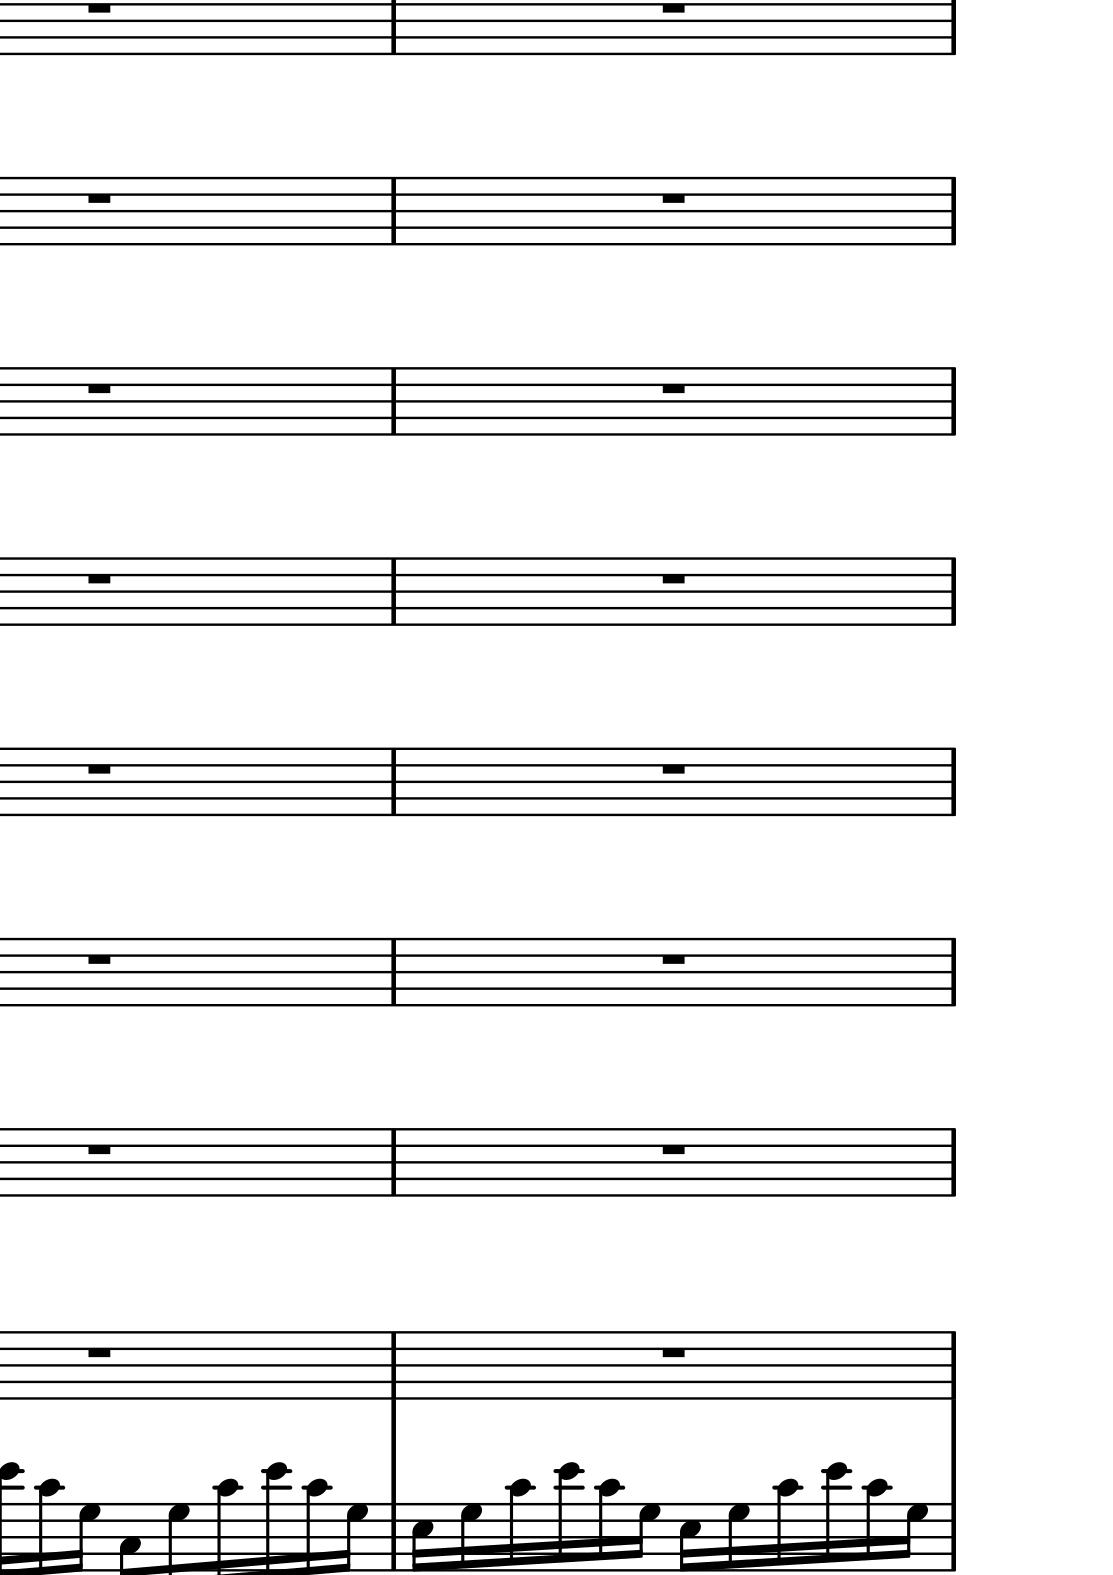16_10: (33, 1477, 64, 1575), (300, 1477, 331, 1575), (862, 1476, 893, 1573), (507, 1477, 537, 1573), (775, 1474, 801, 1575), (595, 1477, 622, 1573)
16_12: (552, 1459, 583, 1573), (821, 1457, 850, 1573)
16_5: (676, 1500, 701, 1573), (411, 1502, 435, 1574)
16_7: (70, 1502, 102, 1575), (335, 1504, 369, 1574), (900, 1502, 931, 1573), (630, 1503, 661, 1571), (457, 1503, 483, 1573), (728, 1500, 750, 1571)
Rests1: (656, 760, 695, 784), (81, 949, 114, 973), (659, 568, 691, 592), (656, 1344, 691, 1365), (659, 378, 693, 400), (656, 948, 690, 968), (84, 1137, 113, 1160), (84, 570, 114, 591), (659, 188, 688, 210), (84, 1344, 114, 1364), (81, 381, 114, 399), (84, 188, 114, 207), (656, 1142, 691, 1157), (86, 759, 114, 777)
Single_barline: (381, 1503, 405, 1573), (381, 1332, 405, 1400), (940, 558, 964, 626), (940, 748, 964, 816), (381, 1129, 405, 1197), (940, 177, 964, 244), (381, 939, 405, 1005), (940, 1129, 964, 1196), (940, 939, 964, 1005), (381, 558, 404, 626), (382, 177, 405, 244), (940, 368, 962, 435), (382, 748, 404, 816), (382, 368, 404, 436), (941, 1332, 962, 1399), (942, 1504, 962, 1571)
